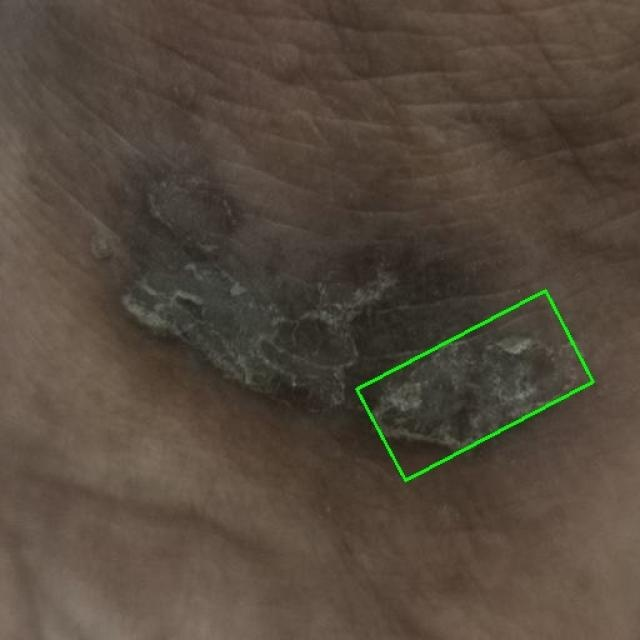Eczema: (357, 291, 593, 481)
